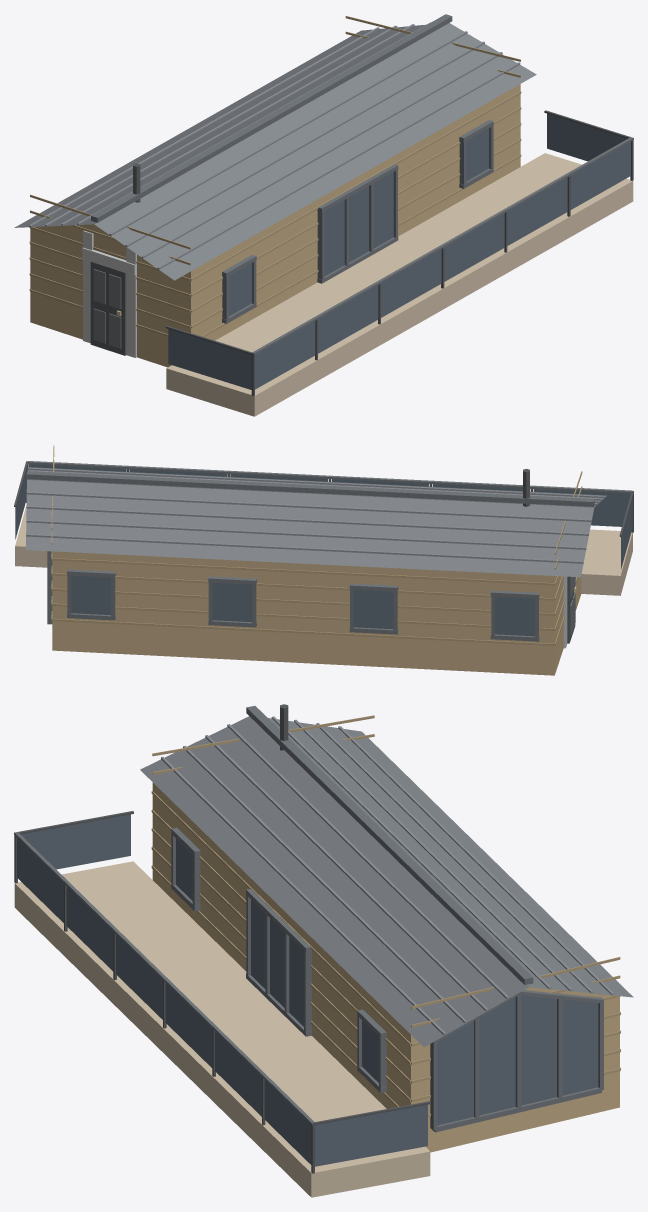
3 views of the same model, one above another, from view 1: azimuth 30°, elevation 25°; view 2: azimuth 150°, elevation 25°; view 3: azimuth 270°, elevation 25° (orthographic). The views are drawn at different scales.
Visible parts, largest first — view 1: slate, door_wood, larch, slate_dk, slate_lt, door_wood_p, window_glass_007, stone_band, window_glass_008, window_glass_001, window_glass_002, window_glass_003 (+11 smaller); view 2: door_wood, slate, slate_dk, slate_lt, door_wood_p, larch, window_glass_016, window_glass_017, window_glass_015, window_glass_018, window_glass_001, pipe (+7 smaller); view 3: slate, larch, door_wood, slate_dk, window_glass_014, slate_lt, door_wood_p, window_glass_008, window_glass_007, pipe, window_glass_006, window_glass_004 (+9 smaller).
Part boxes in pixels (x1,y1,x2,y2): slate: (14,23,536,280); door_wood: (30,84,520,367); larch: (166,153,633,416); slate_dk: (91,14,633,354); slate_lt: (29,22,520,269); door_wood_p: (29,16,521,336); window_glass_007: (168,329,251,389); stone_band: (82,230,136,357); window_glass_008: (547,113,627,161); window_glass_001: (255,321,315,389); window_glass_002: (318,285,378,353); window_glass_003: (381,249,441,317); door_wood: (52,551,581,675); slate: (26,467,606,577); slate_dk: (26,461,632,641); slate_lt: (26,467,604,563); door_wood_p: (51,445,582,645); larch: (15,505,632,595); window_glass_016: (212,582,252,622); window_glass_017: (353,589,393,629); window_glass_015: (71,575,110,615); window_glass_018: (495,597,534,636); window_glass_001: (533,489,630,526); pipe: (14,461,633,536); slate: (140,716,633,1047); larch: (14,861,430,1197); door_wood: (152,764,619,1152); slate_dk: (14,706,603,1132); window_glass_014: (437,995,598,1125); slate_lt: (161,716,614,1035); door_wood_p: (151,715,620,1116); window_glass_008: (315,1104,427,1166); window_glass_007: (21,814,130,869); pipe: (14,704,430,1173); window_glass_006: (264,1080,311,1164); window_glass_004: (165,983,212,1067).
Size of the model in its own units: 15.1 by 4.07 by 11.49.
